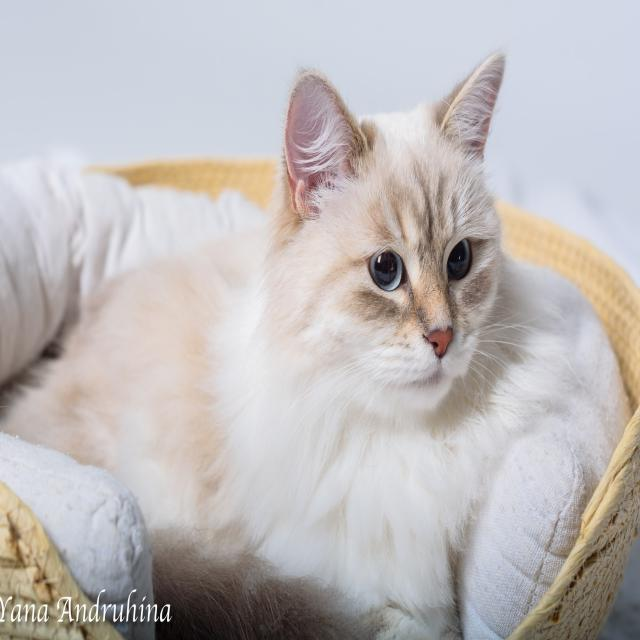Neva Masquerade: (0, 43, 570, 640)
